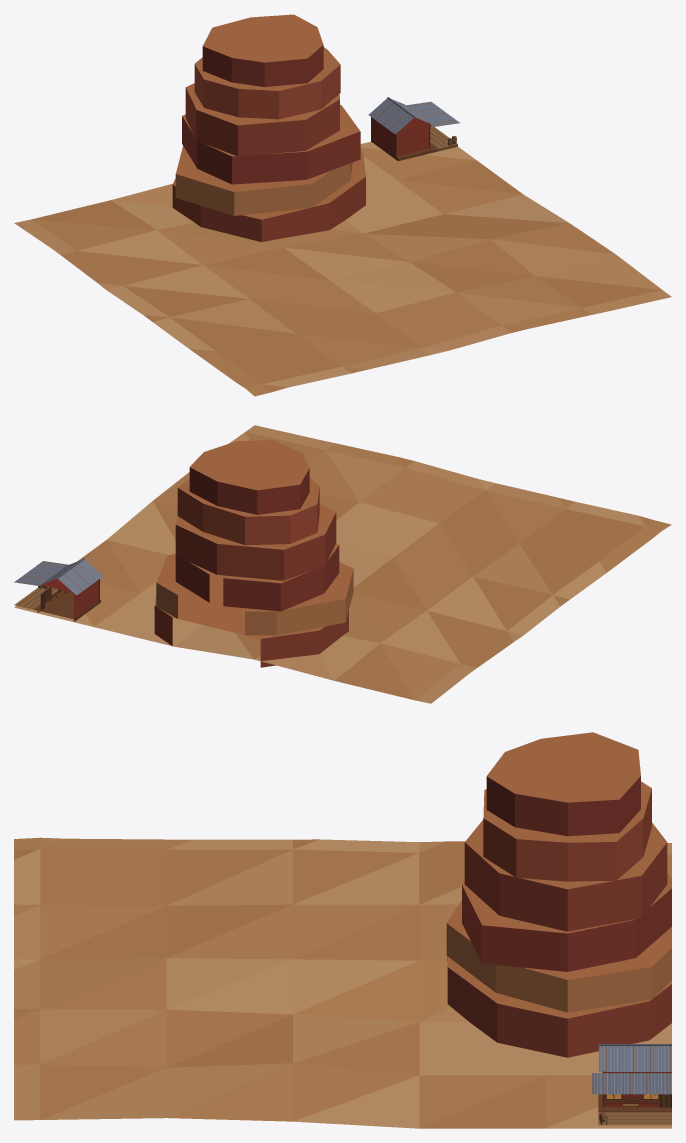
3 renders of one model, top to bottom at view 1: azimuth 30°, elevation 25°; view 2: azimuth 150°, elevation 25°; view 3: azimuth 270°, elevation 25°, orthographic. The views are drawn at different scales.
Parts seen in each view (by area): view 1: baked; view 2: baked; view 3: baked.
Part boxes in pixels (x1,y1,x2,y2): baked: (14,14,671,396); baked: (14,425,671,703); baked: (14,732,671,1128).
Bounding box in the file's own units: 62.5 × 23.57 × 62.5.
